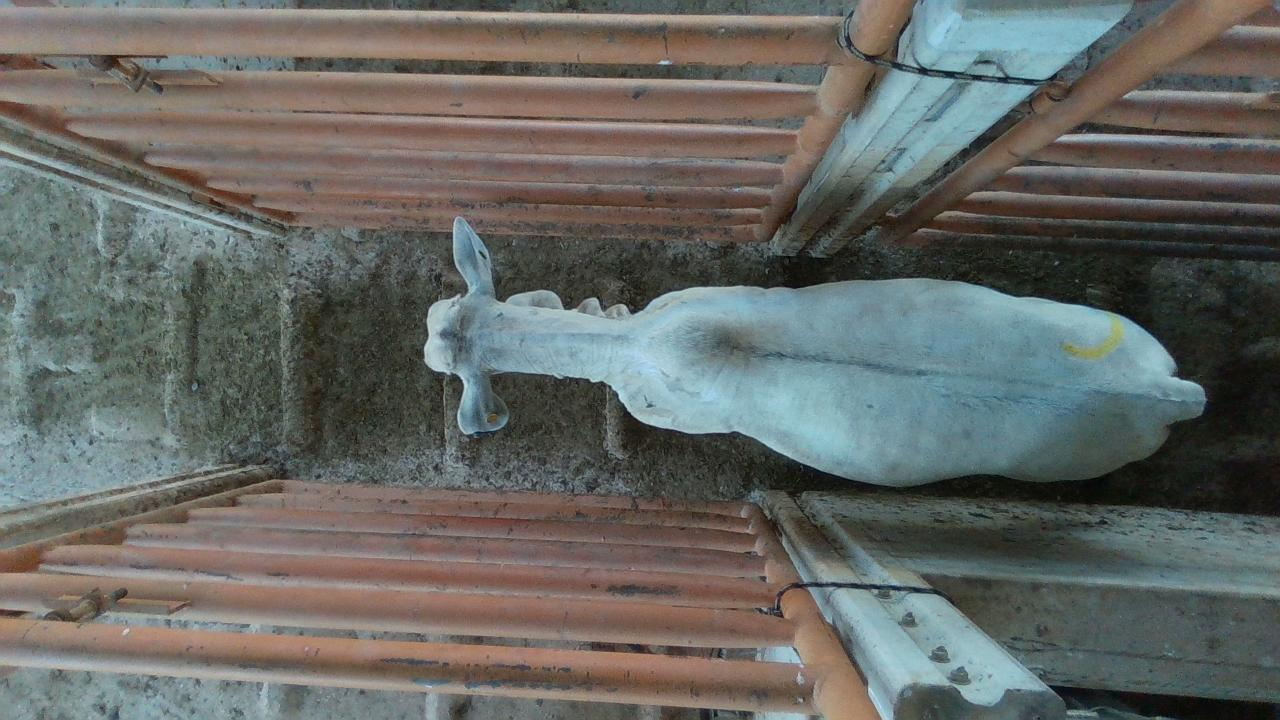cattle: (421, 214, 1208, 488)
